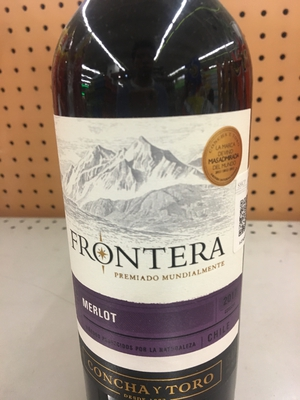frontera merlot: (46, 10, 262, 400)
